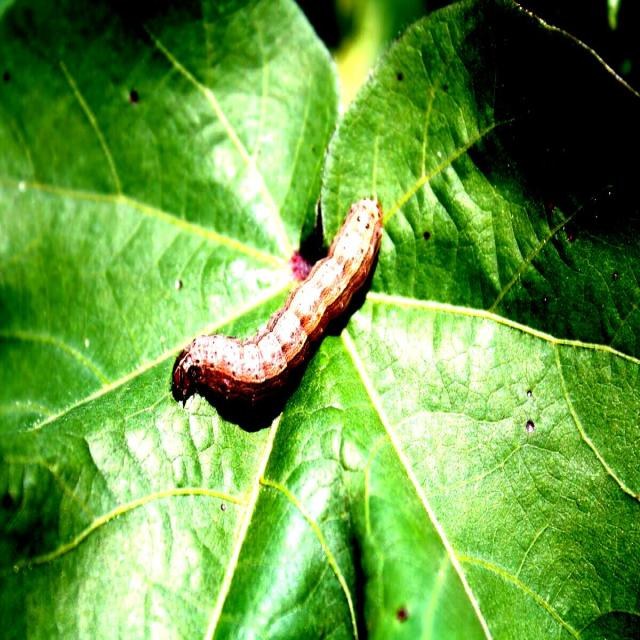armyworm: (171, 191, 383, 430)
